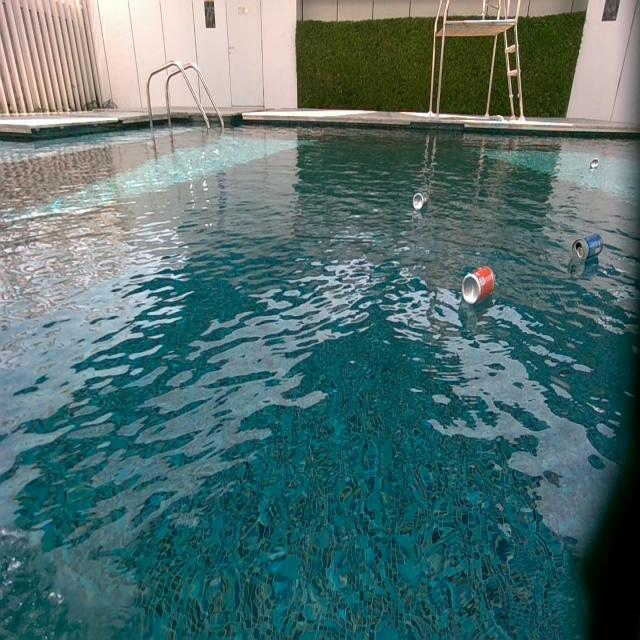Cans: (463, 268, 496, 307), (572, 234, 603, 263), (413, 191, 427, 210), (590, 159, 600, 171)
